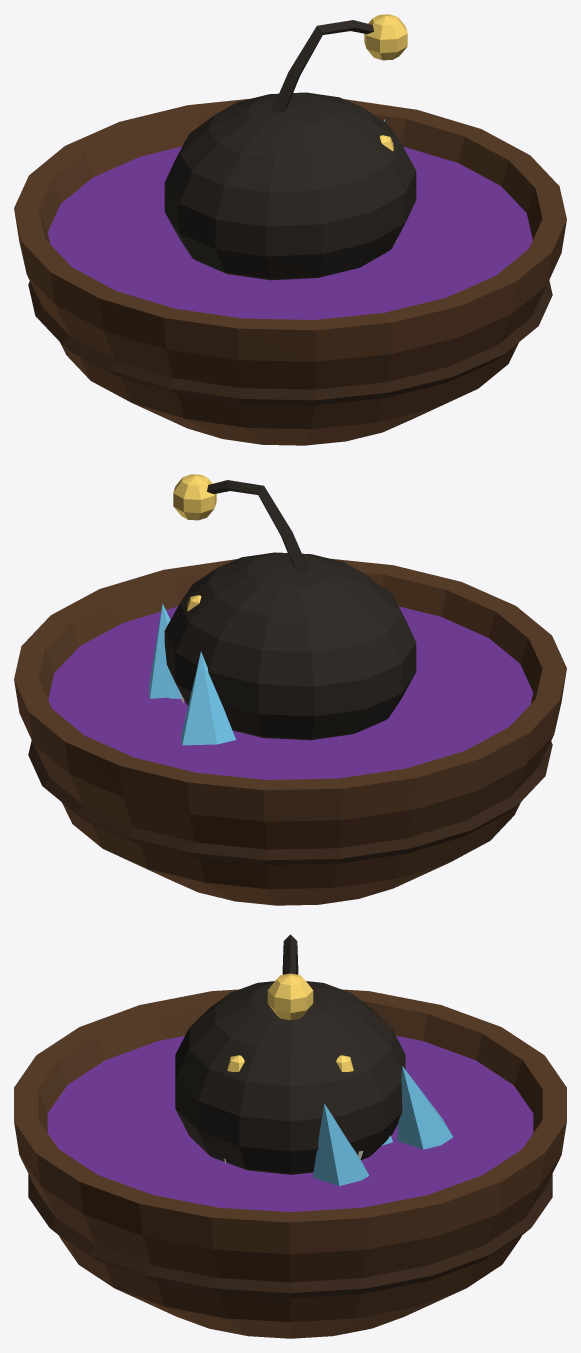
File: VFP_Food_AnglerMistSoup.obj
3 views of the same model, one above another, from view 1: azimuth 30°, elevation 25°; view 2: azimuth 150°, elevation 25°; view 3: azimuth 270°, elevation 25° (orthographic).
Parts seen in each view (by area): view 1: Bowl, Angler, Fill, Bowl_wood_dark, Angler_lure; view 2: Bowl, Angler, Fill, Bowl_wood_dark, Crystals, Angler_lure; view 3: Bowl, Fill, Angler, Bowl_wood_dark, Crystals, Angler_lure.
Part boxes in pixels (<box>): Bowl: <box>14,98,566,445</box>; Angler: <box>164,20,416,280</box>; Fill: <box>47,146,532,319</box>; Bowl_wood_dark: <box>28,280,552,405</box>; Angler_lure: <box>364,14,407,151</box>; Bowl: <box>14,558,566,905</box>; Angler: <box>164,480,416,740</box>; Fill: <box>48,606,533,779</box>; Bowl_wood_dark: <box>28,740,552,865</box>; Crystals: <box>149,603,235,745</box>; Angler_lure: <box>173,474,216,611</box>; Bowl: <box>14,989,566,1338</box>; Fill: <box>47,1036,533,1211</box>; Angler: <box>175,934,405,1174</box>; Bowl_wood_dark: <box>28,1174,552,1298</box>; Crystals: <box>312,1066,452,1185</box>; Angler_lure: <box>227,973,353,1072</box>.
Bounding box in the file's own units: 0.3264 × 0.2281 × 0.323.
